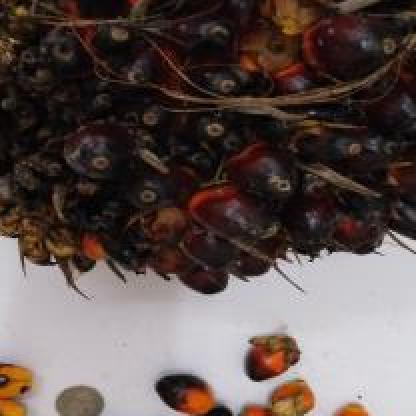Unripe: (0, 0, 416, 302)
